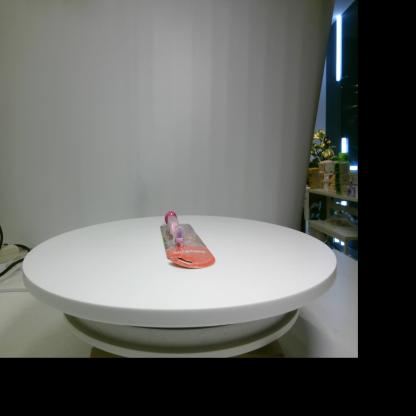Personal Hygiene: (160, 211, 215, 269)
